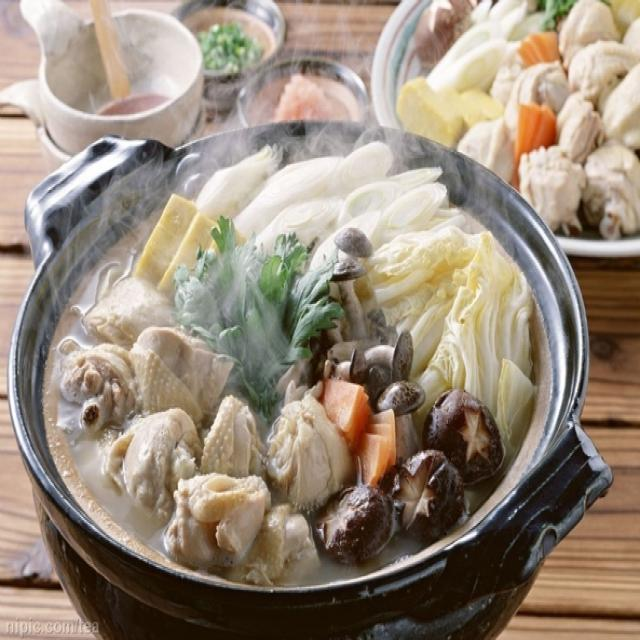汤锅炖物: (22, 29, 613, 613)
